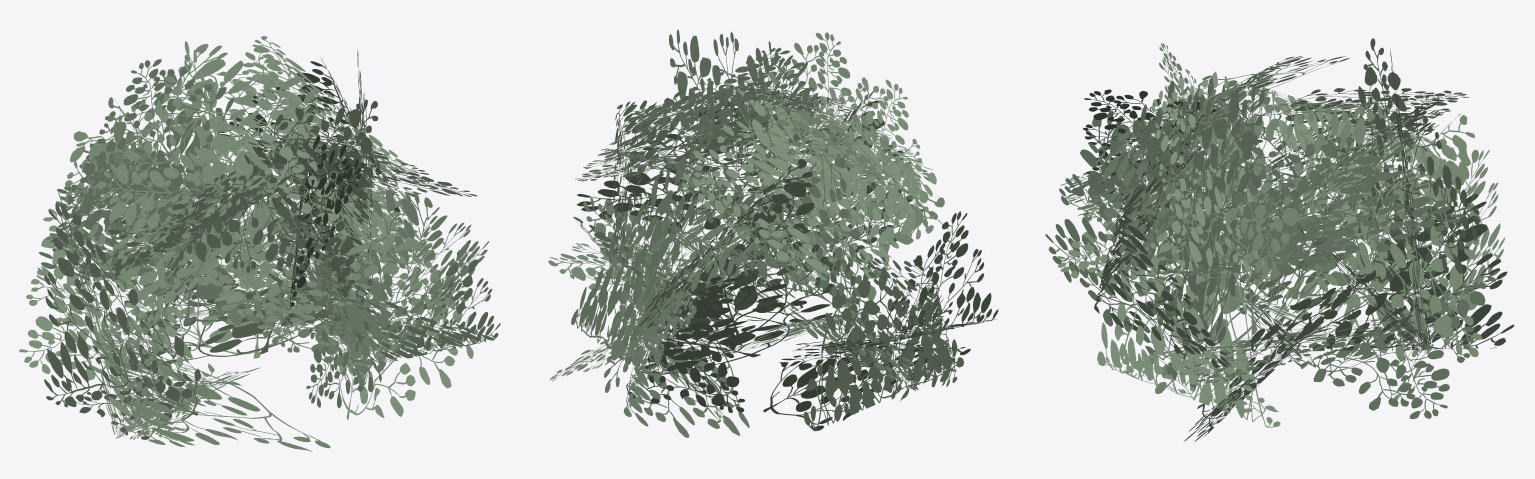
The model's file is shrub_1.glb.
3 renders of one model, left to right at view 1: azimuth 30°, elevation 25°; view 2: azimuth 150°, elevation 25°; view 3: azimuth 270°, elevation 25°, orthographic. The views are drawn at different scales.
Parts seen in each view (by area): view 1: shrub.001; view 2: shrub.001; view 3: shrub.001.
Part boxes in pixels (left/top/right/bottom): shrub.001: left=19, top=36, right=500, bottom=451; shrub.001: left=548, top=29, right=998, bottom=437; shrub.001: left=1045, top=38, right=1514, bottom=441.
Bounding box in the file's own units: 1.9 × 1.65 × 1.78.
Materials: 1 (1 with a texture image).
